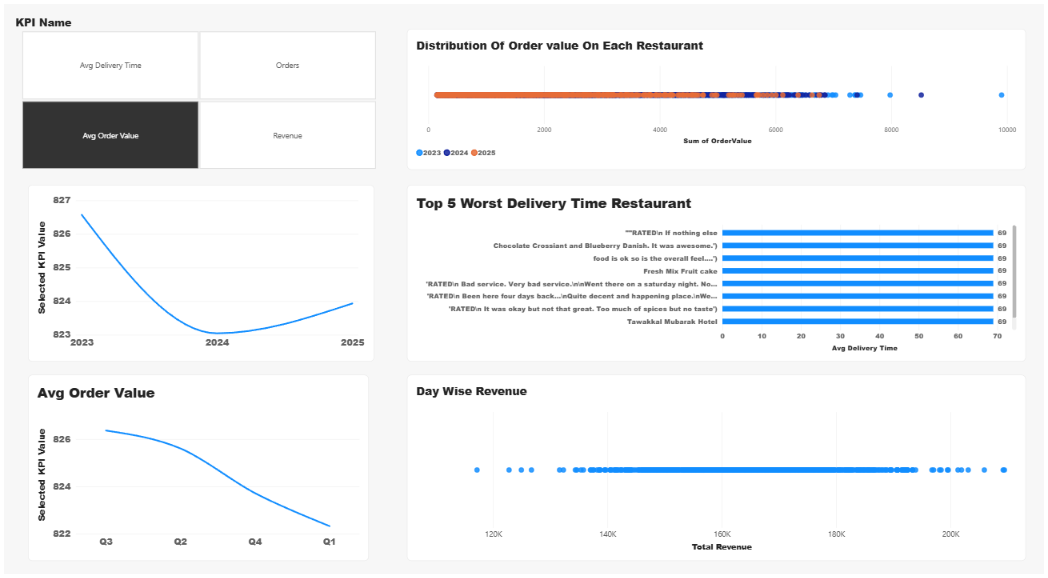

The dashboard page shown, as its layout file describes it:
{"tool":"powerbi","page":{"name":"Advanced Insights","canvas":[1920,1080],"ordinal":3},"visuals":[{"type":"slicer","fields":{"Values":["KPI.KPI Name"]},"box":[19.9,54.3,678.6,280.5],"z":0},{"type":"lineChart","fields":{"Category":["DateTable.Date.Variation.Date Hierarchy.Year","DateTable.Date.Variation.Date Hierarchy.Month"],"Y":["Orders.Selected KPI Value"]},"box":[50.7,361.9,626.1,320.3],"z":1},{"type":"lineChart","fields":{"Category":["DateTable.Quarter"],"Y":["Orders.Selected KPI Value"]},"box":[50.7,705.8,617.1,336.6],"z":2},{"type":"scatterChart","title":"Distribution Of Order value On Each Restaurant","fields":{"Category":["Restaurants.RestaurantID"],"Series":["Orders.year"],"X":["Sum(Orders.OrderValue)"]},"box":[736.5,79.6,1120.2,255.2],"z":3},{"type":"clusteredBarChart","title":"Top 5 Worst Delivery Time Restaurant","fields":{"Category":["Restaurants.name"],"Y":["Orders.Avg Delivery Time"]},"box":[736.5,361.9,1120.2,320.3],"z":4},{"type":"scatterChart","title":"Day Wise Revenue","fields":{"Category":["Orders.OrderDate"],"X":["Orders.Total Revenue"]},"box":[736.5,705.8,1120.2,336.6],"z":5}]}

Visuals, with their boxes in screenshot pixels (x1, y1, x2, y2), scaled from the page's 1920x1080 canvas onto the 1048x578 screenshot:
slicer - KPI.KPI Name: [left=11, top=29, right=381, bottom=179]
lineChart - DateTable.Date.Variation.Date Hierarchy.Year x DateTable.Date.Variation.Date Hierarchy.Month: [left=28, top=194, right=369, bottom=365]
lineChart - DateTable.Quarter x Orders.Selected KPI Value: [left=28, top=378, right=365, bottom=558]
"Distribution Of Order value On Each Restaurant" scatterChart: [left=402, top=43, right=1013, bottom=179]
"Top 5 Worst Delivery Time Restaurant" clusteredBarChart: [left=402, top=194, right=1013, bottom=365]
"Day Wise Revenue" scatterChart: [left=402, top=378, right=1013, bottom=558]
